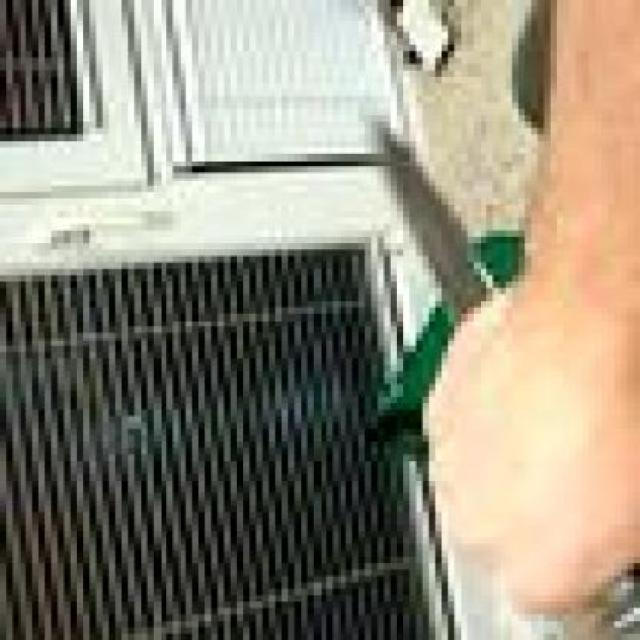knife: (371, 121, 634, 627)
